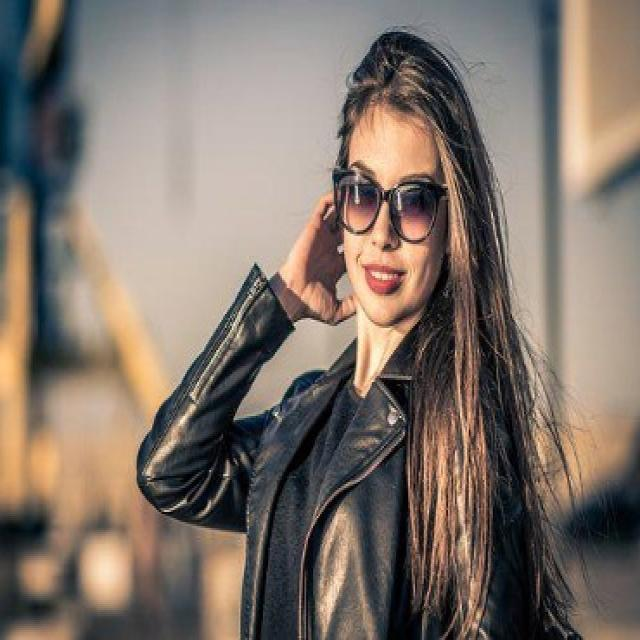adult: (133, 21, 555, 640)
